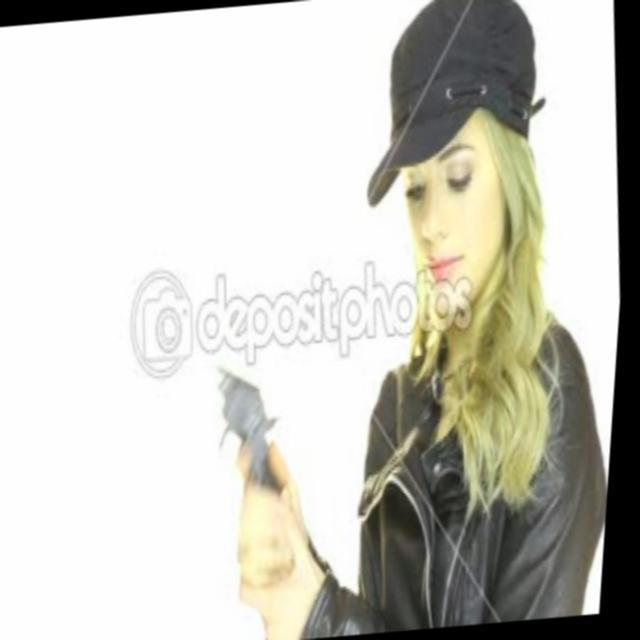weapon: (212, 356, 296, 498)
